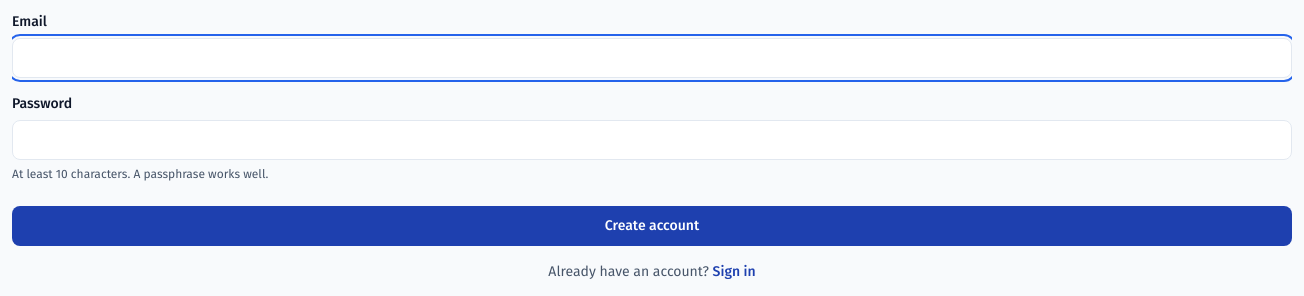
Test: AuthForm › enforces the password length on sign-up only
In the field labelled "Email": (652, 58) top-left (12, 38), bottom-right (1292, 78), type "ada@example.com"
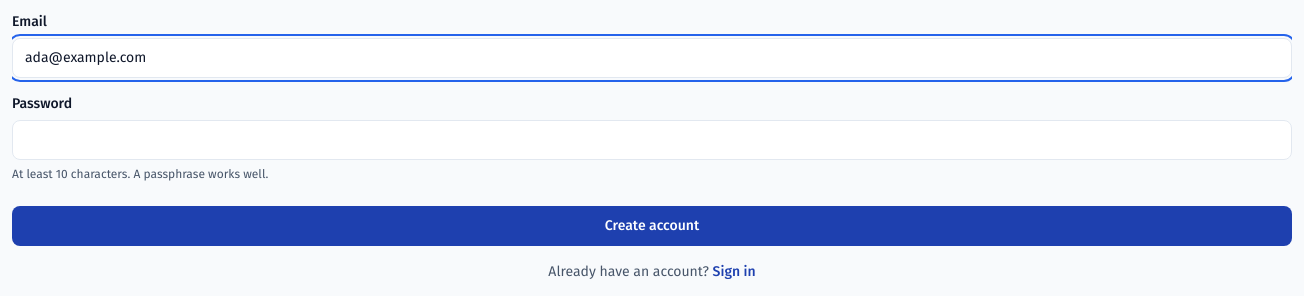
In the password field labelled "Password": (652, 140) top-left (12, 120), bottom-right (1292, 160), type "short"
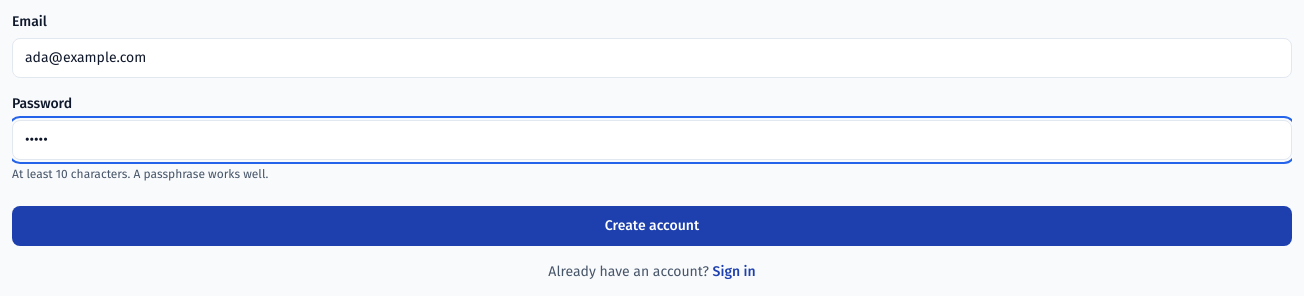
Click the button "Create account": (652, 226) top-left (12, 206), bottom-right (1292, 246)
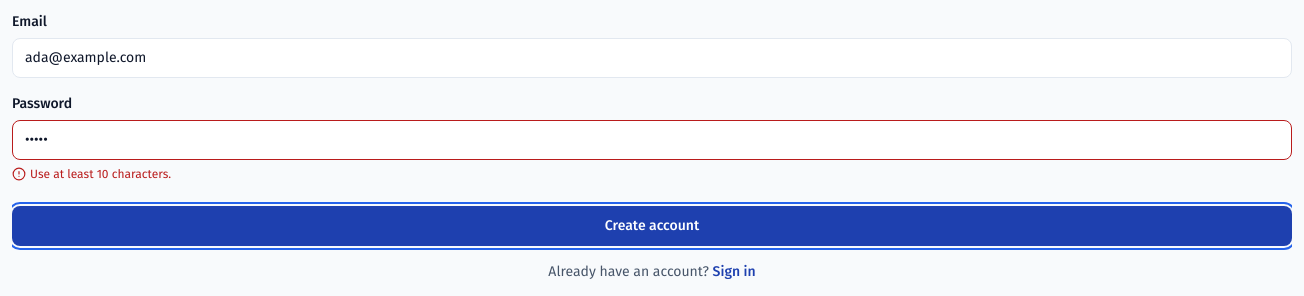
Now the text "Use at least 10 characters." is shown, box top-left (12, 167), bottom-right (171, 181)
